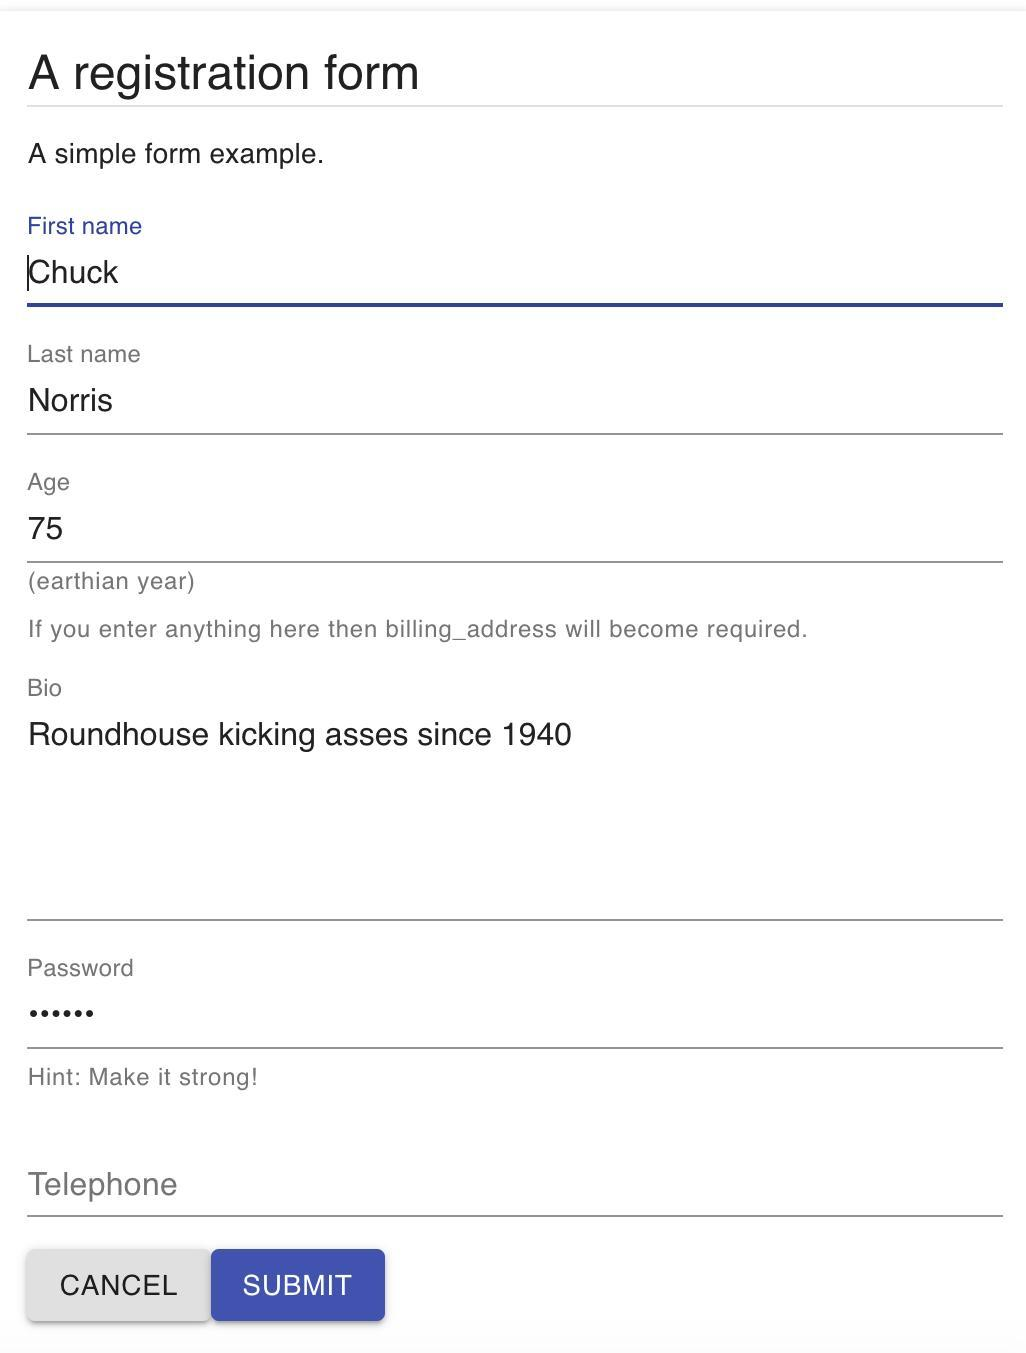button: (23, 1249, 216, 1324), (212, 1249, 389, 1325)
label: (26, 949, 144, 991), (18, 337, 150, 373), (26, 211, 145, 245), (26, 464, 75, 496), (25, 676, 65, 701)
